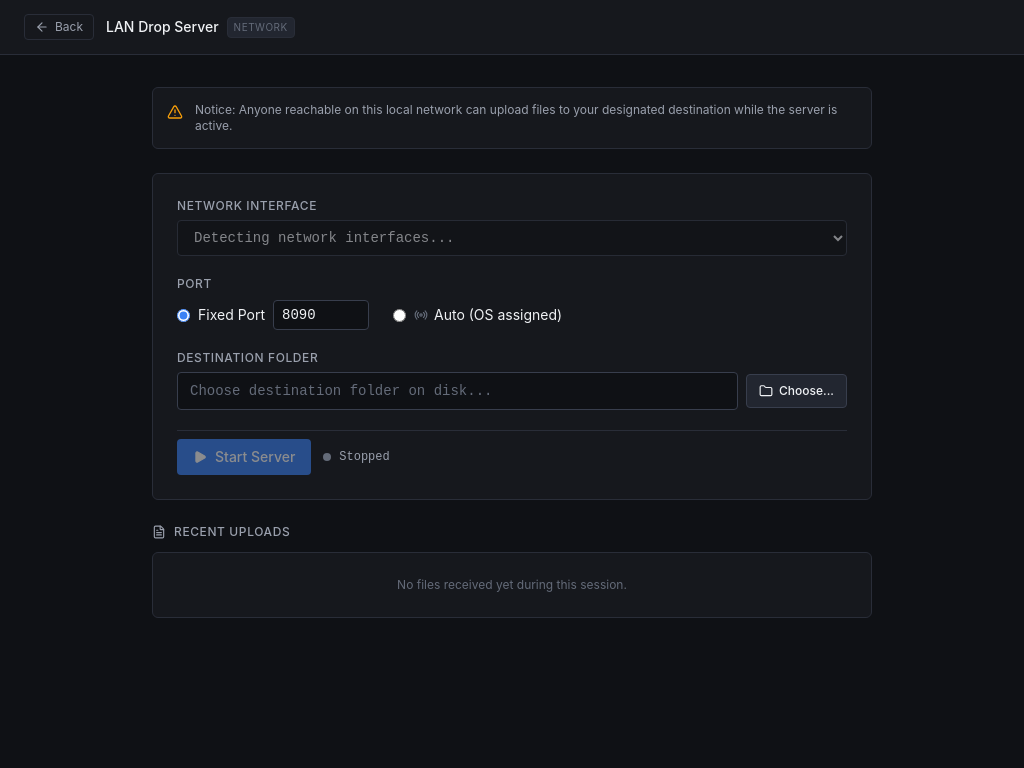
DropServerPage › enables Start Server when a folder is selected
The width and height of the screenshot is (1024, 768).
expect the text "stopped" is shown: met, box [339,449,390,465]
What coordinates should you click on to do the following:
click the button with aria-label "choose destination folder"
I would click on:
 (796, 391)
Its box is [746,374,847,408].
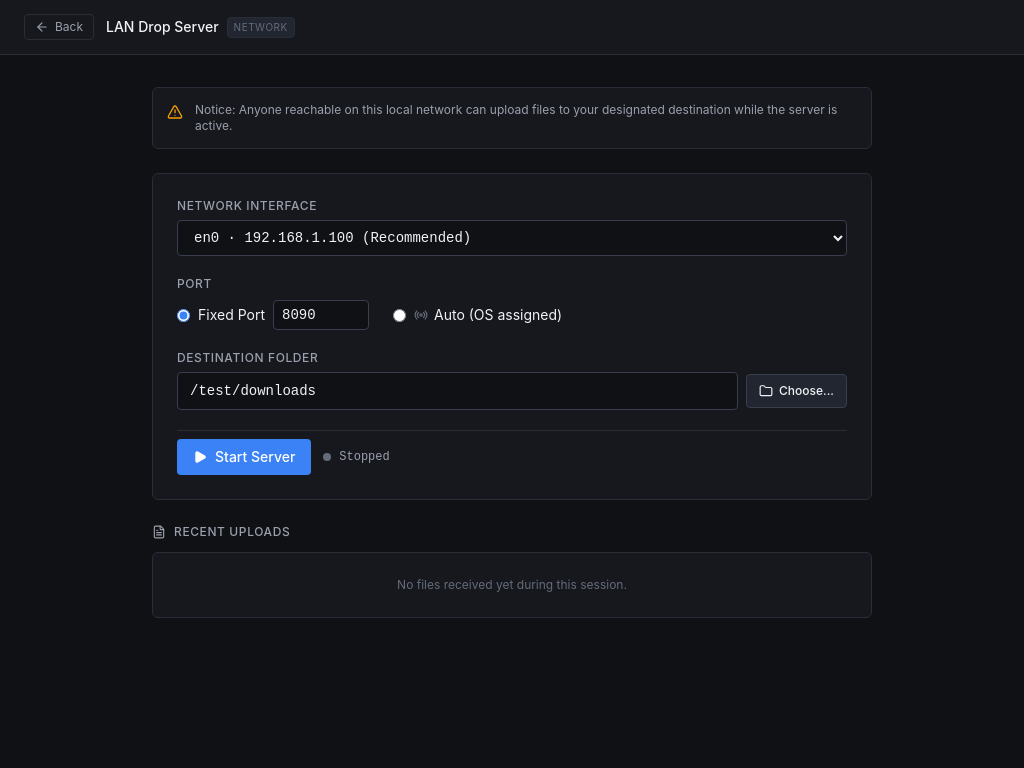
expect the field with placeholder "Choose destination folder on disk..." holds "/test/downloads": met, box [177,372,738,410]
expect the button "Start Server" is enabled: met, box [177,439,311,475]
